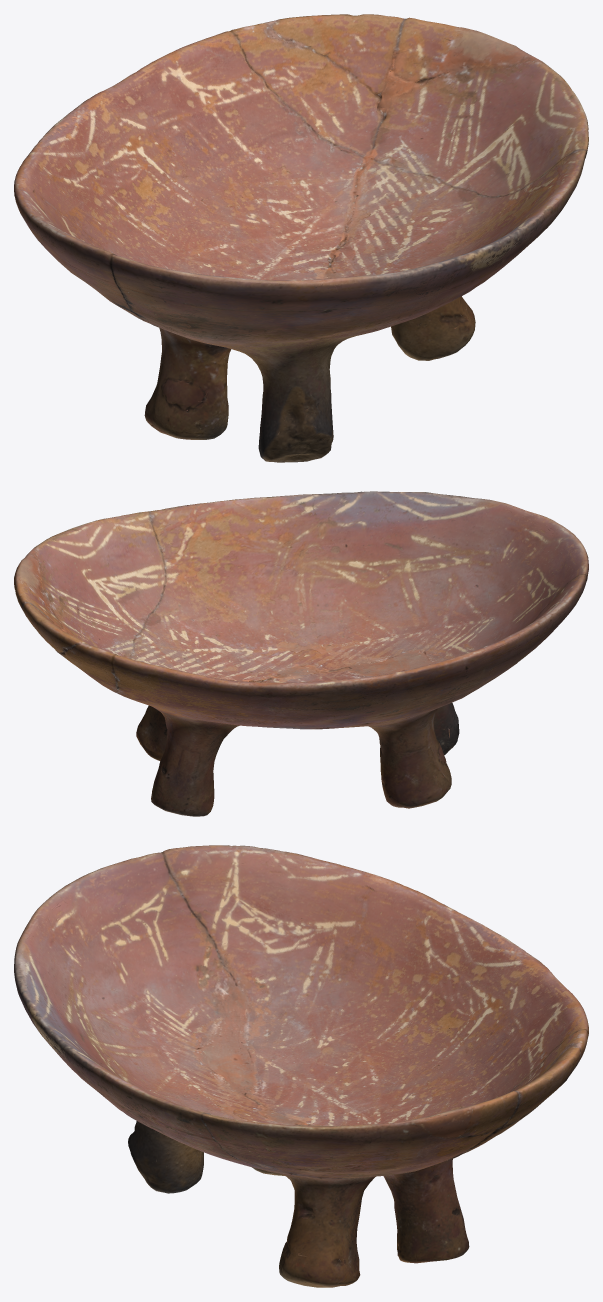
The model's file is bowl_with_feetfbx.fbx.
3 views of the same model, one above another, from view 1: azimuth 30°, elevation 25°; view 2: azimuth 150°, elevation 25°; view 3: azimuth 270°, elevation 25° (orthographic). The views are drawn at different scales.
Visible parts, largest first — view 1: Object_2; view 2: Object_2; view 3: Object_2.
Part boxes in pixels (x1=…): Object_2: x1=14, y1=14, x2=588, y2=462; Object_2: x1=14, y1=491, x2=588, y2=816; Object_2: x1=14, y1=845, x2=588, y2=1287.
Size of the model in its own units: 19.64 by 8.7 by 18.02.
Materials: 1 (1 with a texture image).
